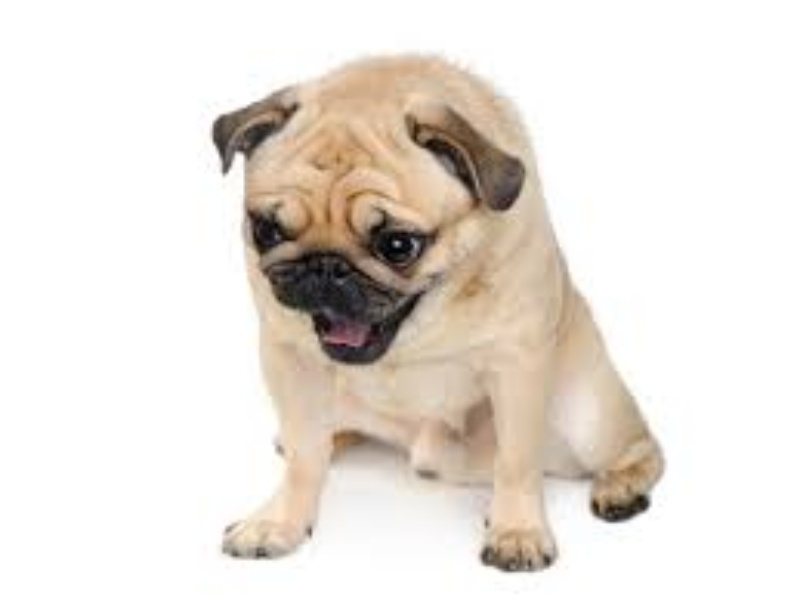dog: (204, 46, 671, 578)
